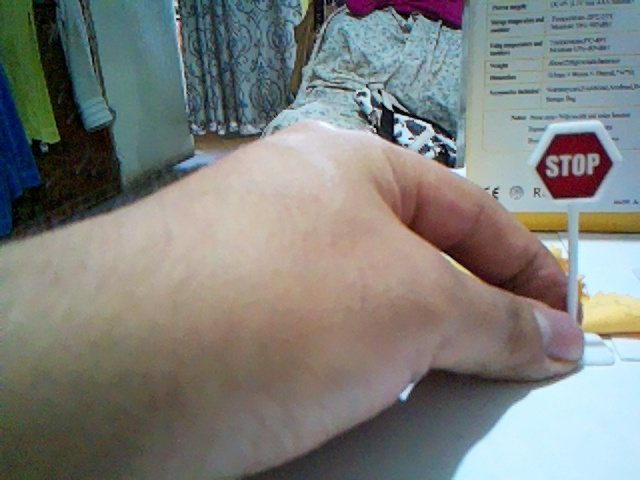stop_sign: (529, 121, 621, 200)
